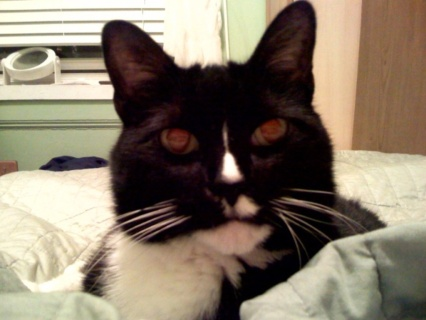Cat: (82, 0, 388, 319)
